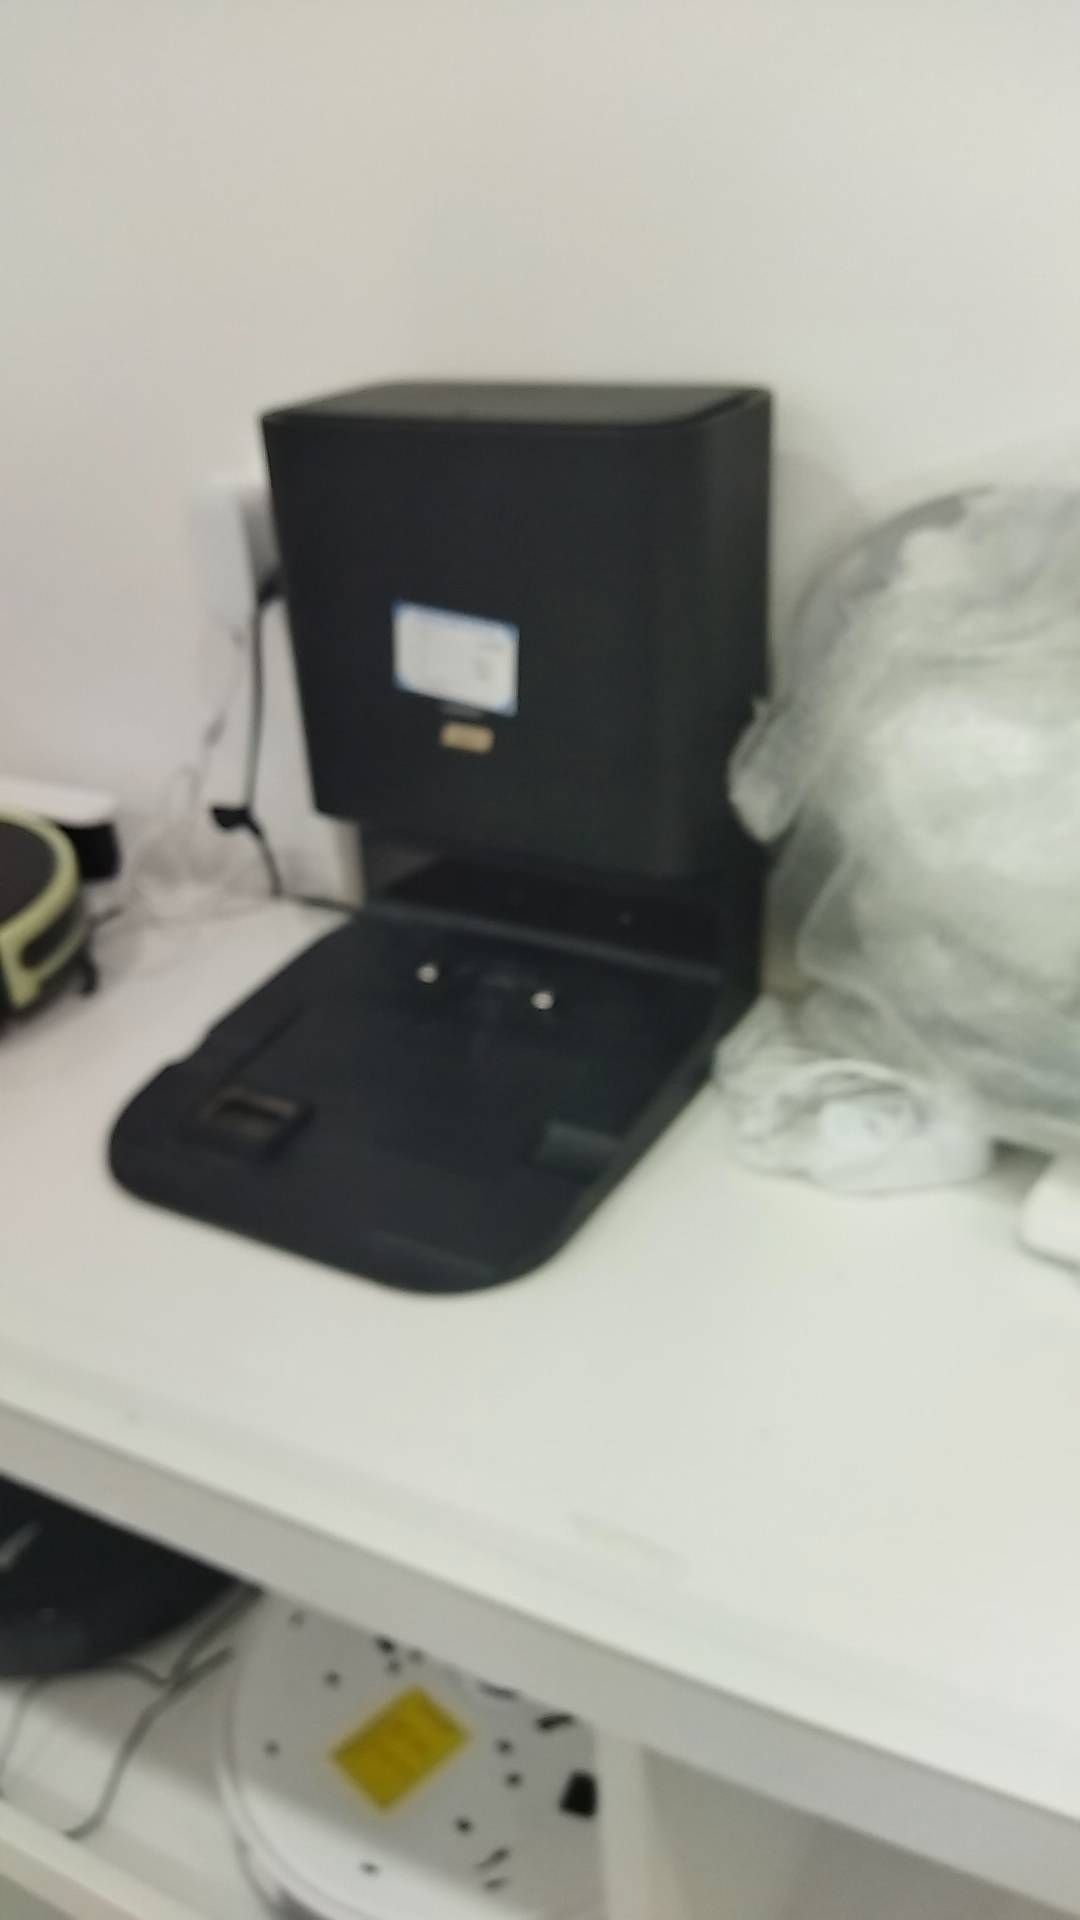dust collecting barrel: (108, 378, 778, 1296)
